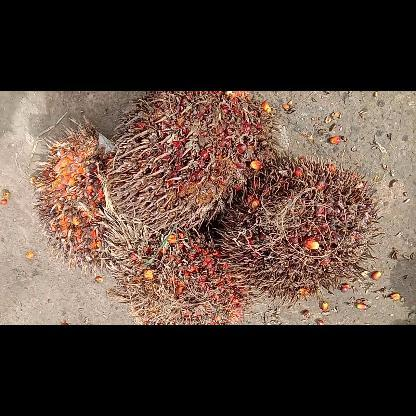Terlalu masak: (214, 155, 382, 301), (108, 91, 274, 230), (100, 207, 250, 324), (31, 117, 118, 273)
